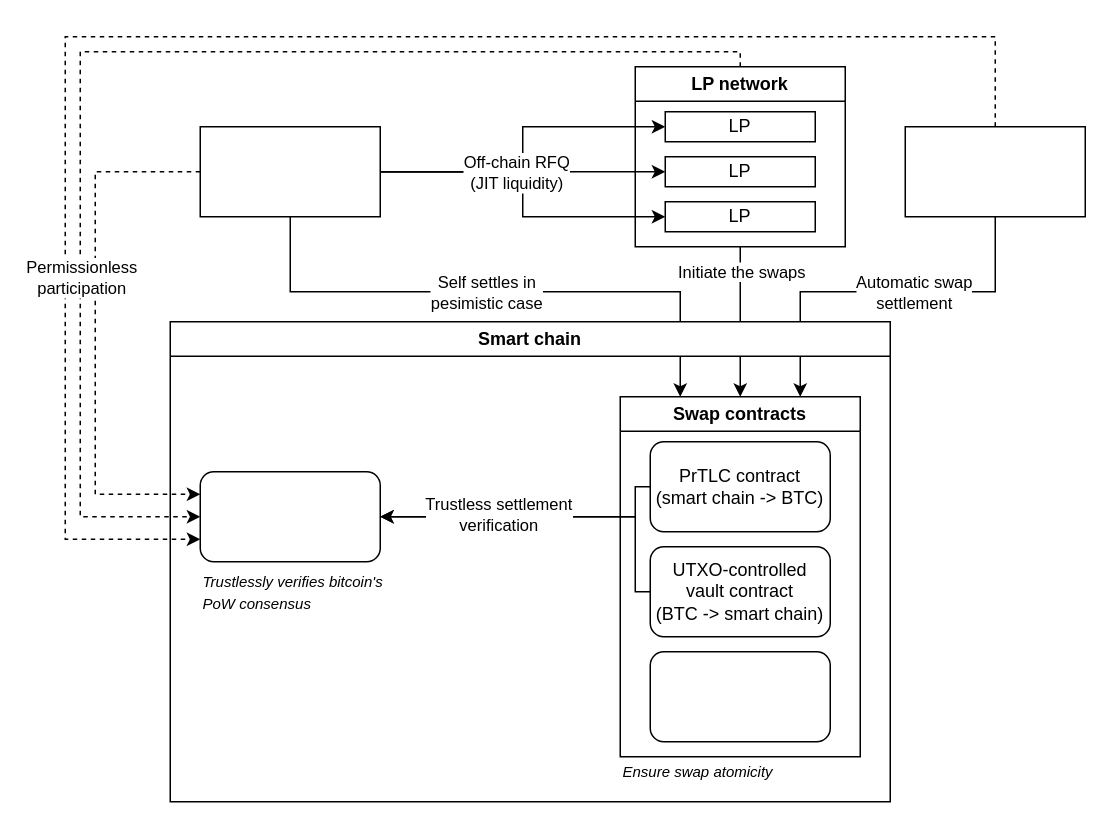
Image size: 1112x828. Some labels were removed from this diagram. Each missing label, with the centre of its shape:
Bitcoin light client contract: pixel 289 516
HTLC contract (Lightning swaps): pixel 739 696
User: pixel 289 171
Watchtowers: pixel 994 171
